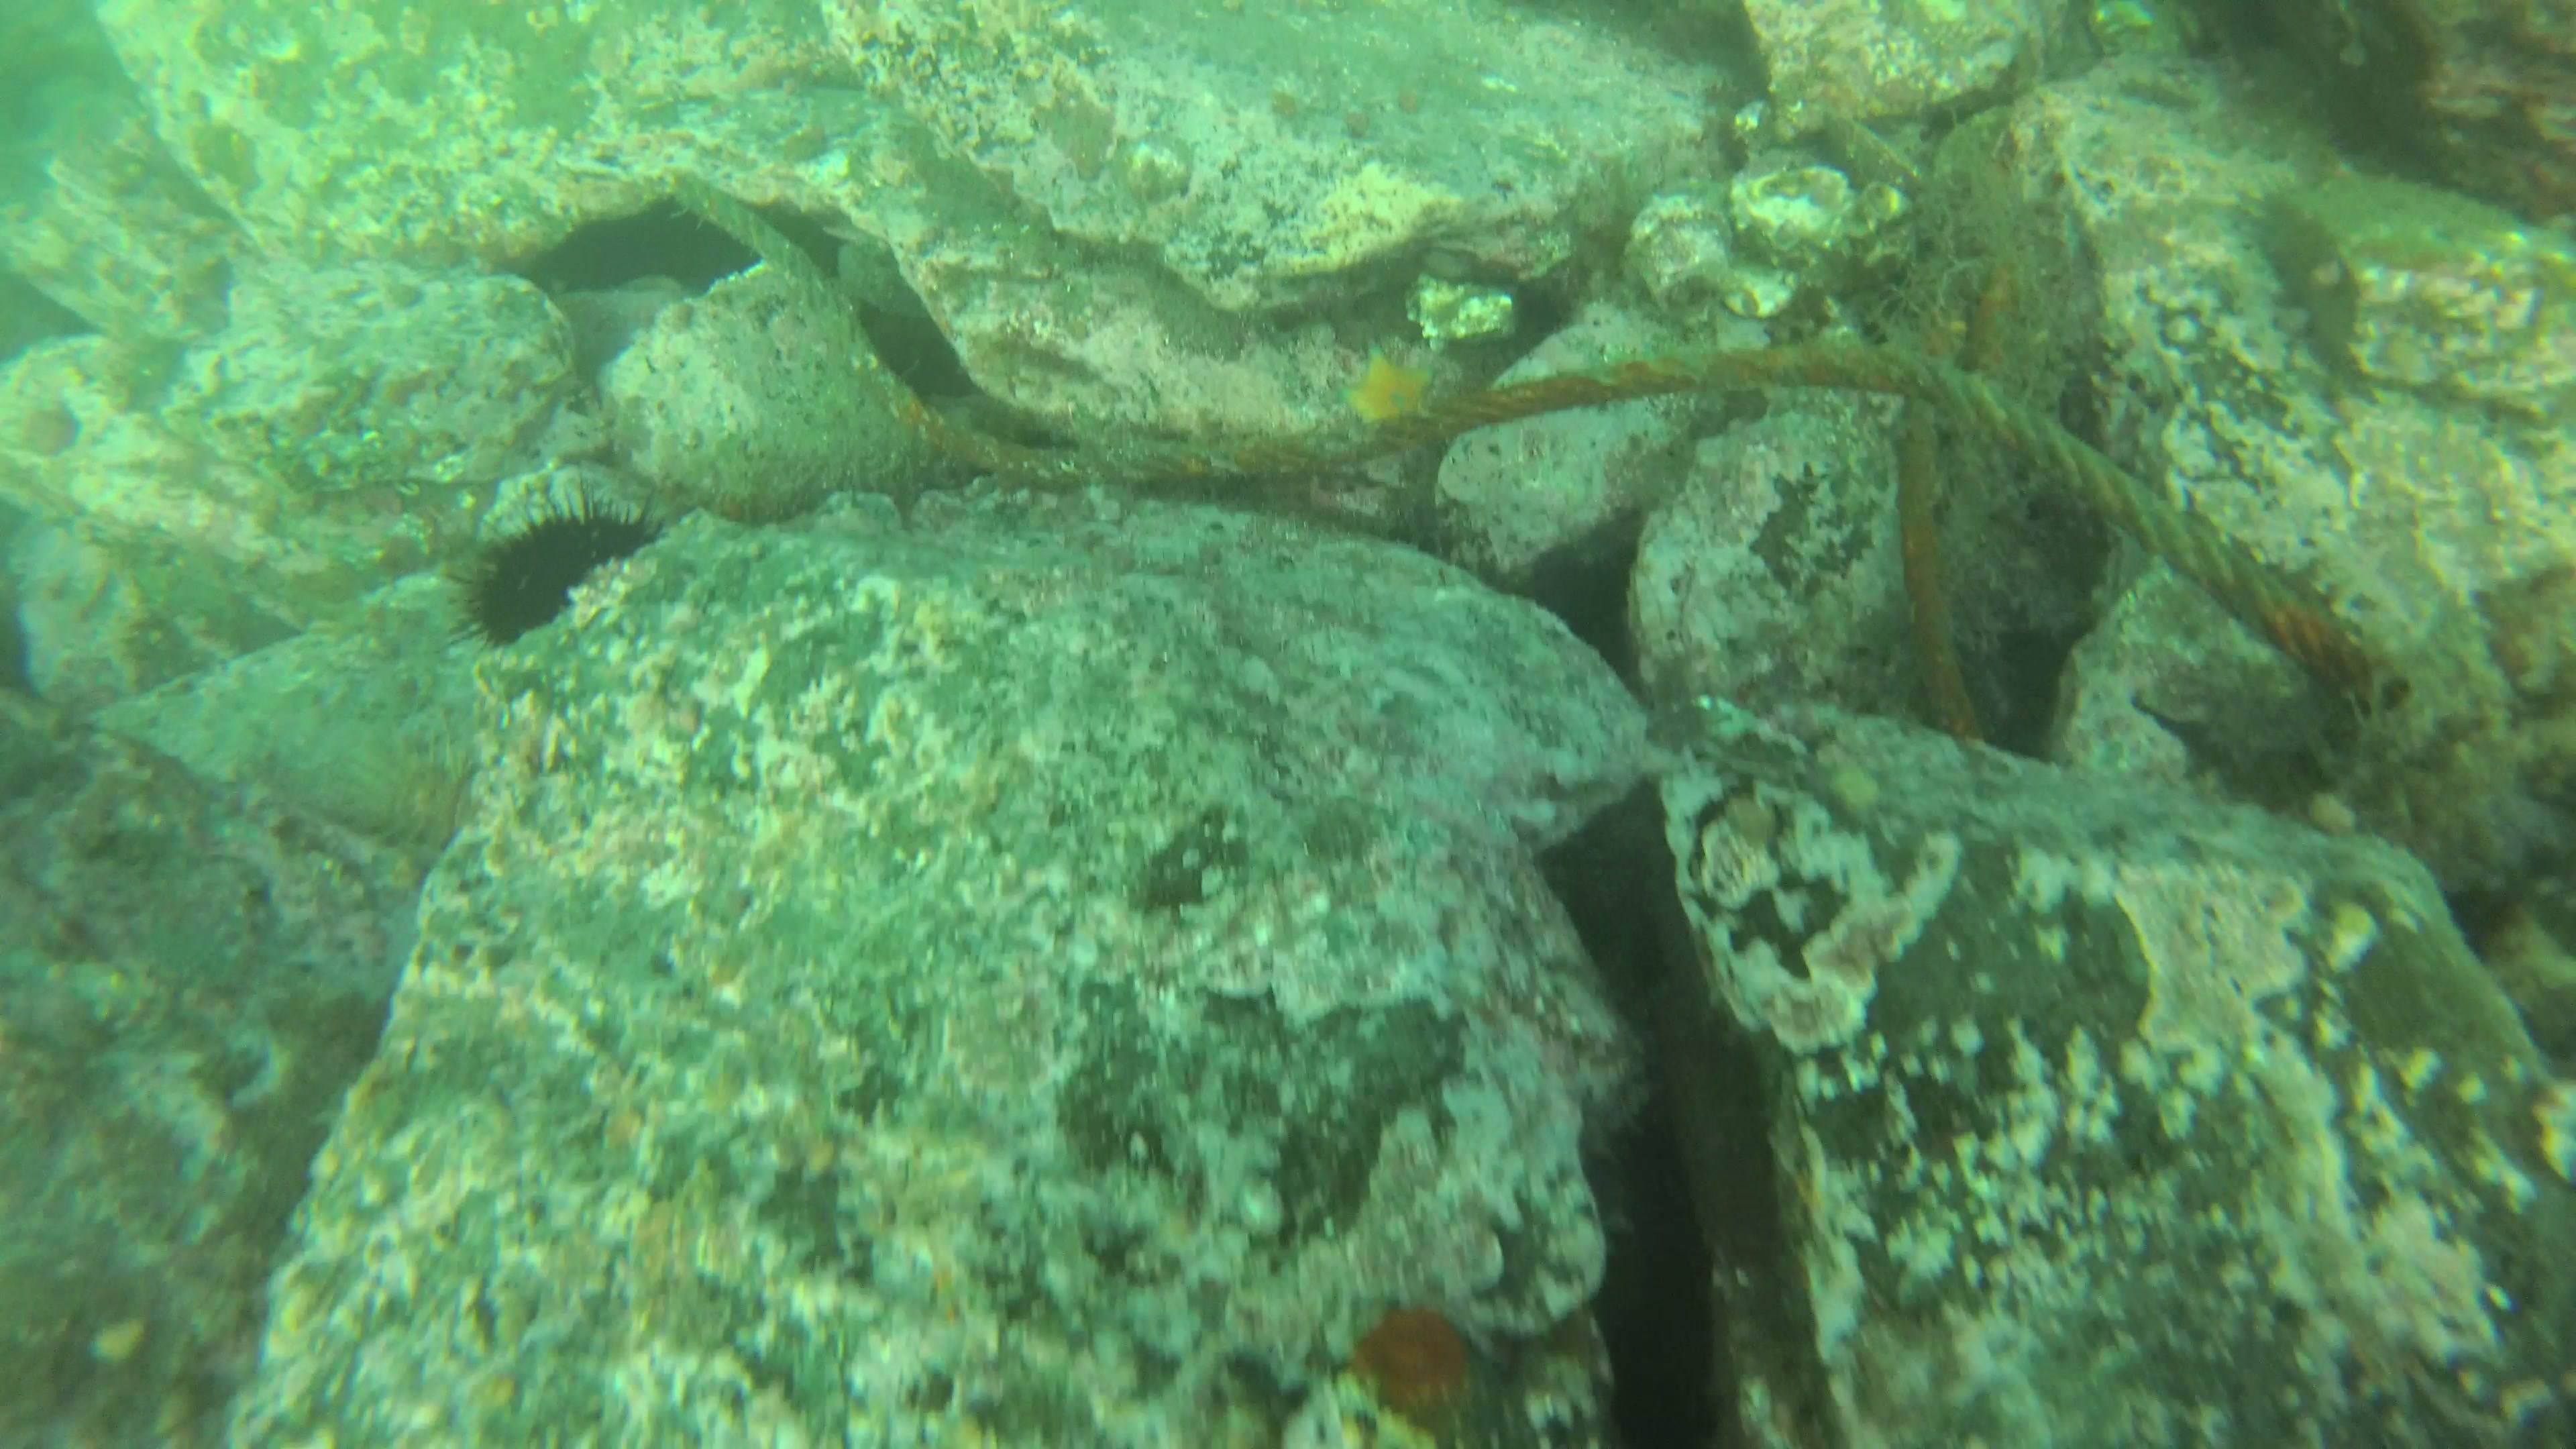echinus: (441, 490, 669, 655)
starfish: (1330, 336, 1445, 444)
